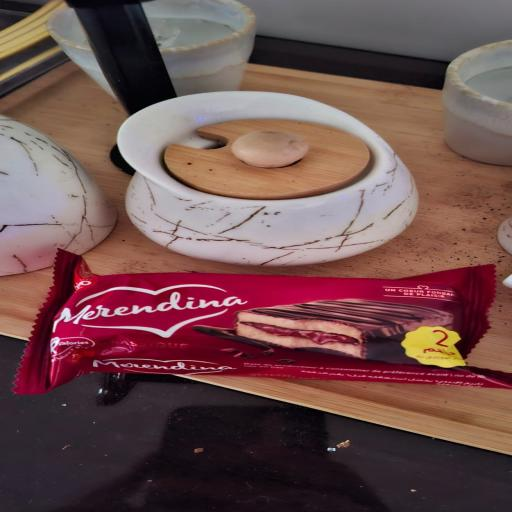merendina: (10, 210, 512, 428)
